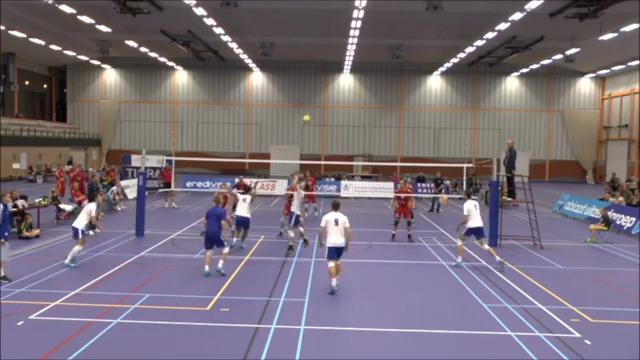Player: (454, 190, 503, 270), (318, 200, 350, 293), (64, 193, 103, 266), (204, 195, 228, 275), (231, 186, 254, 248), (391, 181, 413, 241), (278, 185, 294, 236), (214, 184, 231, 227), (304, 170, 318, 217), (232, 176, 248, 193), (410, 197, 416, 220)
Set: (281, 171, 309, 257)
ball: (301, 112, 311, 123)
